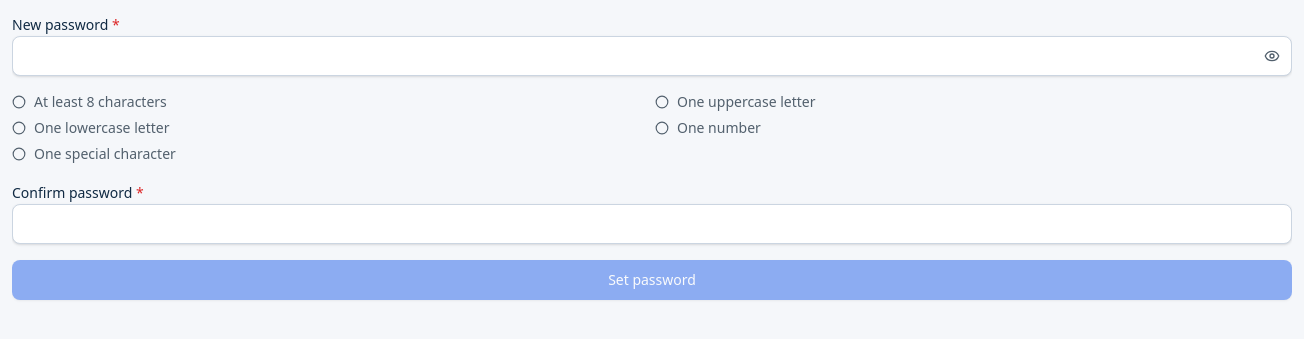
SetPasswordForm › updates validation messages while the user types, without waiting for blur or submit
Type "short" into the password field labelled "New password *" at (652, 56), box [12, 36, 1292, 76]
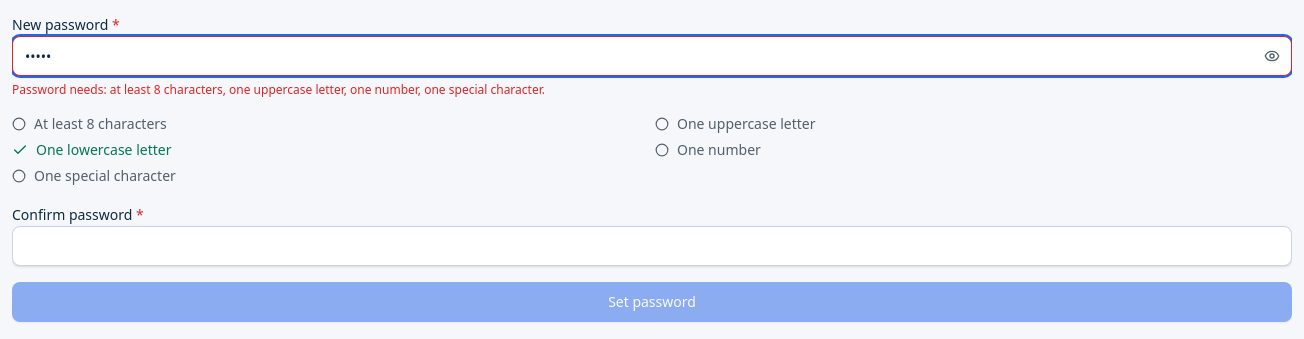
Expected: the text "Password needs:" is shown, [12, 81, 545, 98]
Type "Example@Pass1" into the password field labelled "New password *" at (652, 56), box [12, 36, 1292, 76]
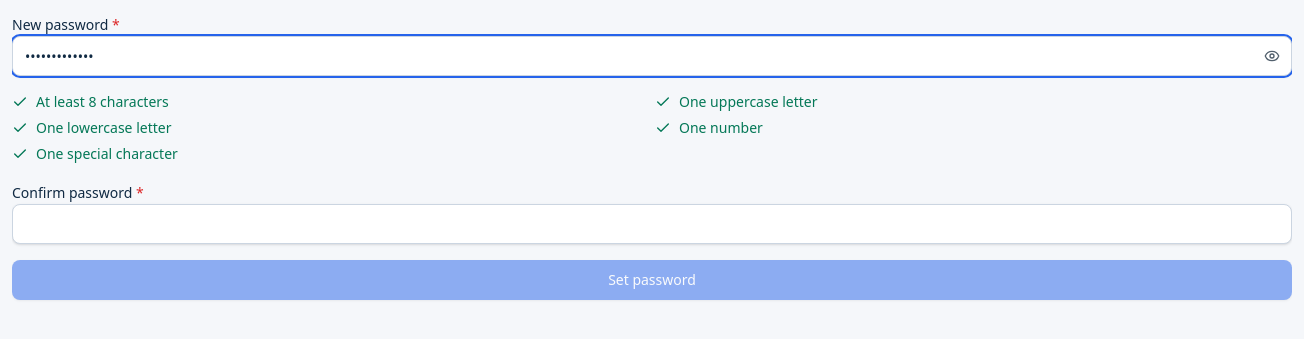
Expected: the text "Password needs:" is gone
Type "Example@Pass" into the password field labelled "Confirm password *" at (652, 224), box [12, 204, 1292, 244]
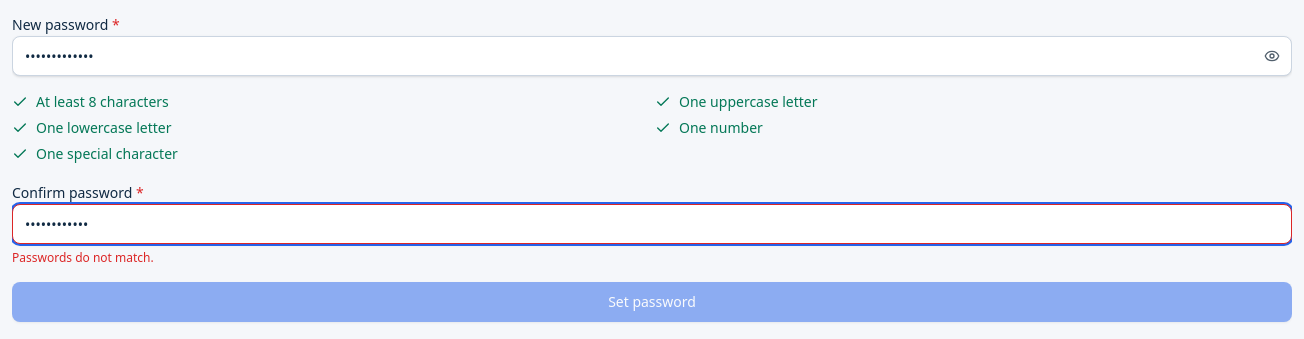
Expected: the text "Passwords do not match." is shown, [12, 249, 154, 266]
Type "1" into the password field labelled "Confirm password *" at (652, 224), box [12, 204, 1292, 244]
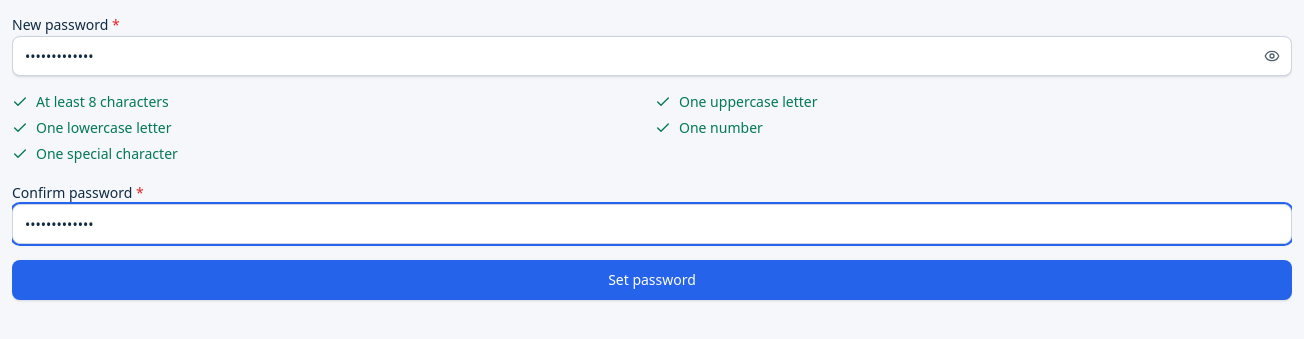
Expected: the text "Passwords do not match." is gone
Expected: the button "Set password" is enabled, [12, 260, 1292, 300]
